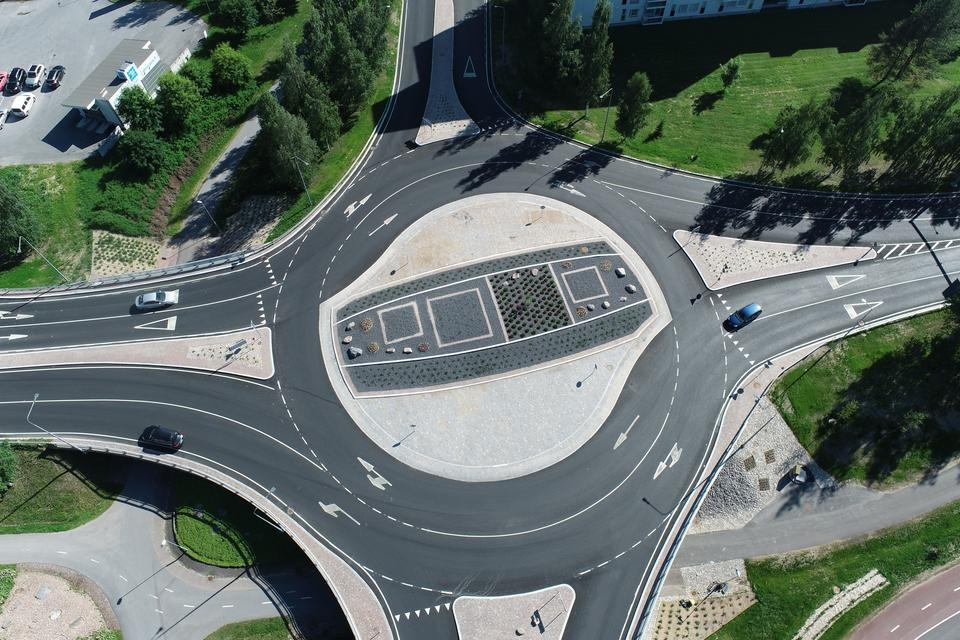roundabout: (223, 83, 770, 640)
